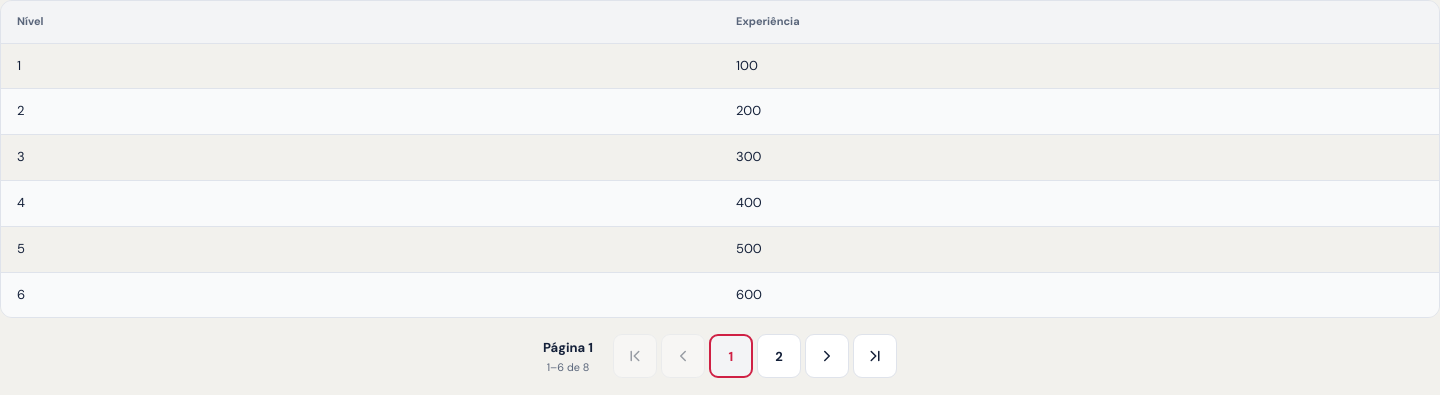
Test case: paginates comparable records in a labeled table without losing later rows
The image size is (1440, 395).
Check: the column heading "Nível" is shown, box 1,1 -> 720,43
Check: the text "600" is shown, box 736,286 -> 762,303
Click the button named "Próxima". click: [827, 356]
box: 805,334 -> 849,378
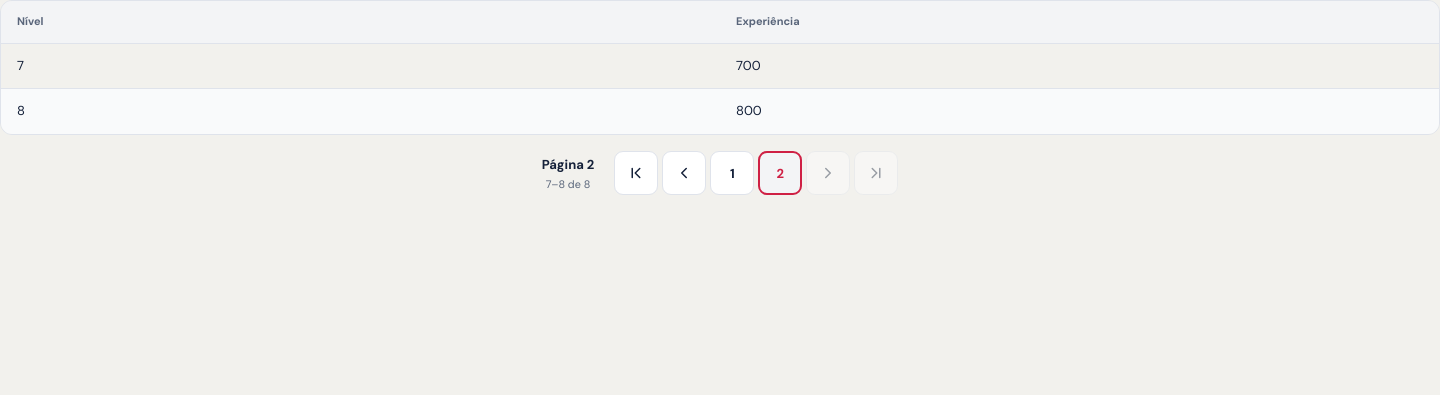
Check: the text "800" is shown, box 736,102 -> 762,119
Check: the text "7–8 de 8" is shown, box 546,177 -> 590,191
